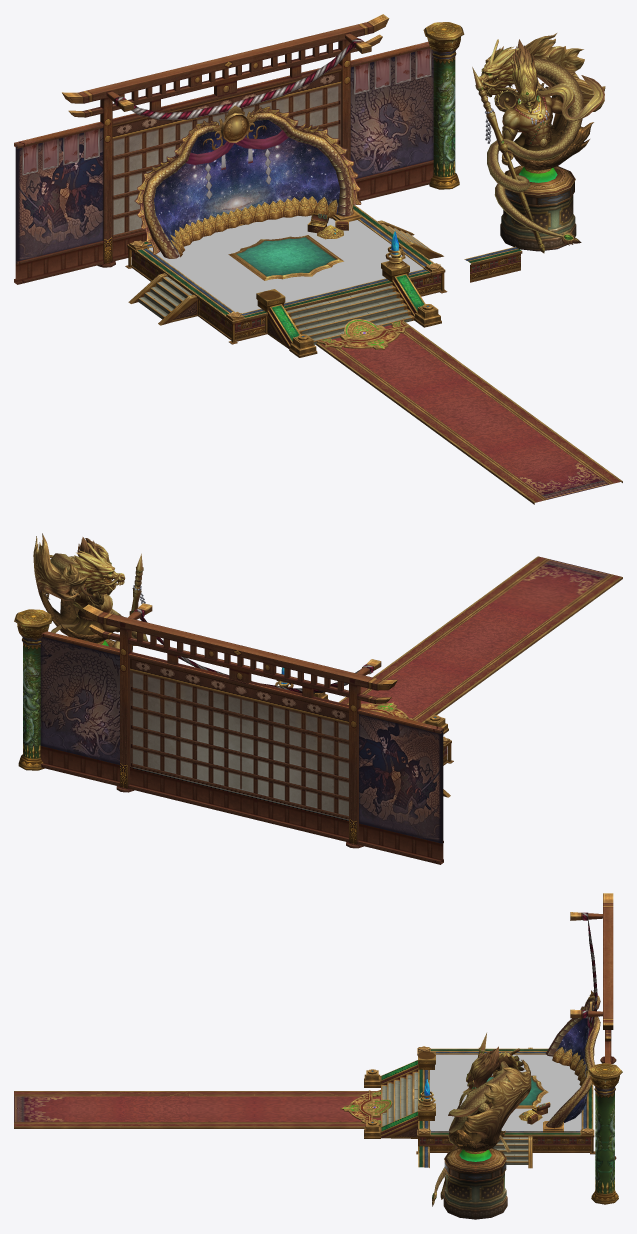
File: tqfb_qian.FBX
The picture shows the model from 3 angles, top to bottom: view 1: azimuth 30°, elevation 25°; view 2: azimuth 150°, elevation 25°; view 3: azimuth 270°, elevation 25°; orthographic projection. The views are drawn at different scales.
Visible parts, largest first — view 1: yq03, tqfb_pingfeng03, yq09, yq11, yq00, yq02, 11, yq05, yq04, tqzhong01, tqfb_pingfeng04, yq01 (+2 smaller); view 2: yq03, yq09, yq11, yq04, yq05; view 3: yq09, yq11, yq00, yq02, yq05, 11, tqfb_pingfeng03, yq04, yq03, yq01, tqzhong01.
Boxes of the visible parts, <box> form: yq03: <box>14,14,433,284</box>; tqfb_pingfeng03: <box>143,112,353,258</box>; yq09: <box>316,321,622,504</box>; yq11: <box>475,33,605,245</box>; yq00: <box>149,215,423,313</box>; yq02: <box>125,204,447,344</box>; 11: <box>256,261,441,357</box>; yq05: <box>472,67,576,253</box>; yq04: <box>423,22,464,189</box>; tqzhong01: <box>228,235,343,280</box>; tqfb_pingfeng04: <box>134,105,361,254</box>; yq01: <box>317,319,410,349</box>; yq03: <box>40,603,443,864</box>; yq09: <box>339,556,622,723</box>; yq11: <box>33,533,147,648</box>; yq04: <box>14,609,53,770</box>; yq05: <box>97,553,145,651</box>; yq09: <box>14,1091,380,1128</box>; yq11: <box>432,1046,531,1206</box>; yq00: <box>429,1054,581,1130</box>; yq02: <box>416,1046,595,1168</box>; yq05: <box>440,1033,507,1219</box>; 11: <box>364,1052,435,1138</box>; tqfb_pingfeng03: <box>545,995,600,1127</box>; yq04: <box>587,1063,622,1204</box>; yq03: <box>570,893,616,1159</box>; yq01: <box>340,1090,392,1126</box>; tqzhong01: <box>463,1075,548,1108</box>.
Size of the model in its own units: 32.53 by 11.57 by 40.29.
